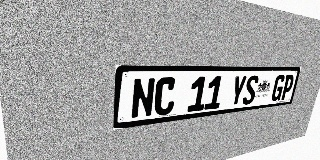1: (187, 76, 209, 112), (204, 76, 224, 110)
C: (153, 77, 177, 116)
G: (270, 75, 286, 102)
N: (130, 78, 156, 119)
P: (280, 74, 295, 100)
S: (242, 75, 259, 105)
Y: (229, 76, 247, 107)
